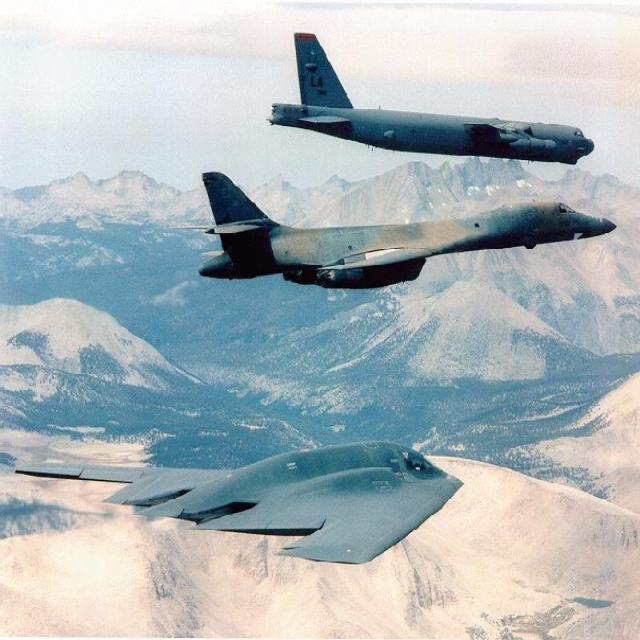B52: (4, 396, 466, 588), (180, 147, 637, 310), (256, 18, 609, 190)
